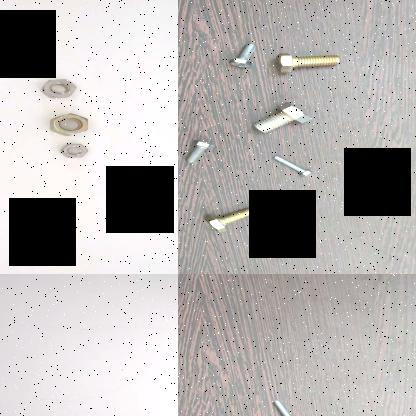Bolts: (248, 100, 314, 134), (271, 48, 349, 74), (205, 203, 260, 233), (223, 38, 263, 72), (270, 151, 314, 179), (180, 136, 220, 166), (350, 156, 372, 191), (270, 397, 302, 416)
NUTS: (46, 111, 95, 135), (37, 74, 79, 100), (55, 140, 97, 159)
